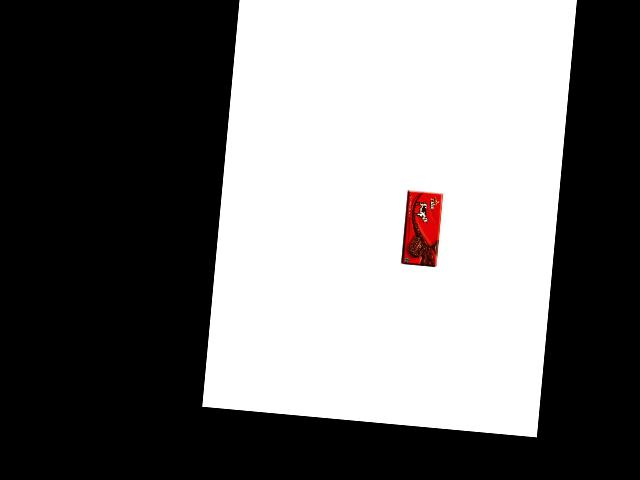chocolate: (397, 187, 444, 269)
